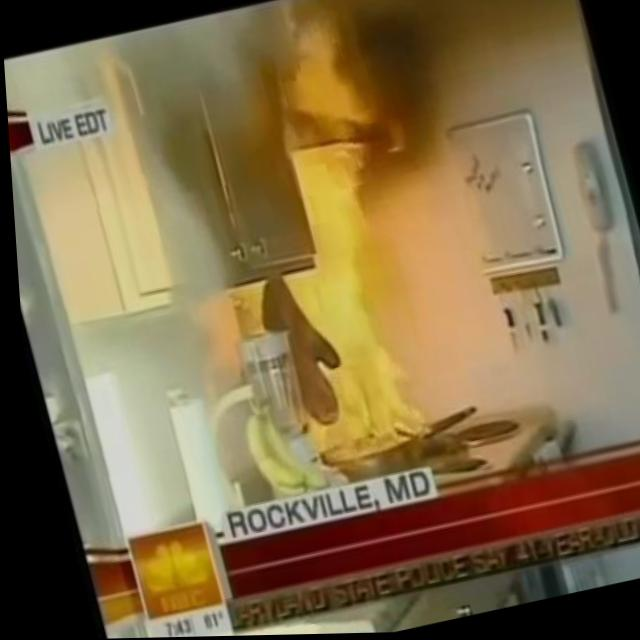fire: (186, 0, 465, 470)
